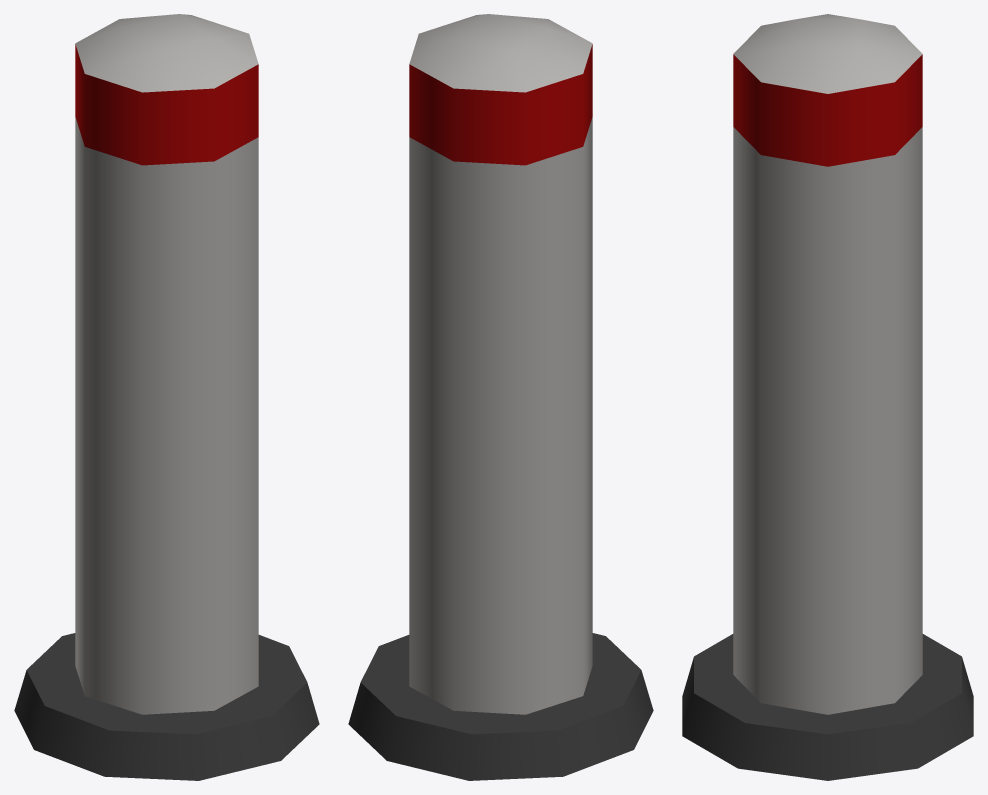
The model's file is propole1.fbx.
3 views of the same model, side by side, from view 1: azimuth 30°, elevation 25°; view 2: azimuth 150°, elevation 25°; view 3: azimuth 270°, elevation 25° (orthographic).
Parts seen in each view (by area): view 1: propole1; view 2: propole1; view 3: propole1.
Part boxes in pixels (x1,y1,x2,y2): propole1: (14,14,319,780); propole1: (348,14,653,780); propole1: (682,14,973,780).
Size of the model in its own units: 76.92 by 189 by 73.15.
